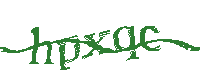c: (140, 25, 163, 54)
h: (29, 26, 53, 66)
p: (57, 36, 81, 70)
q: (113, 25, 139, 60)
x: (84, 30, 110, 58)
